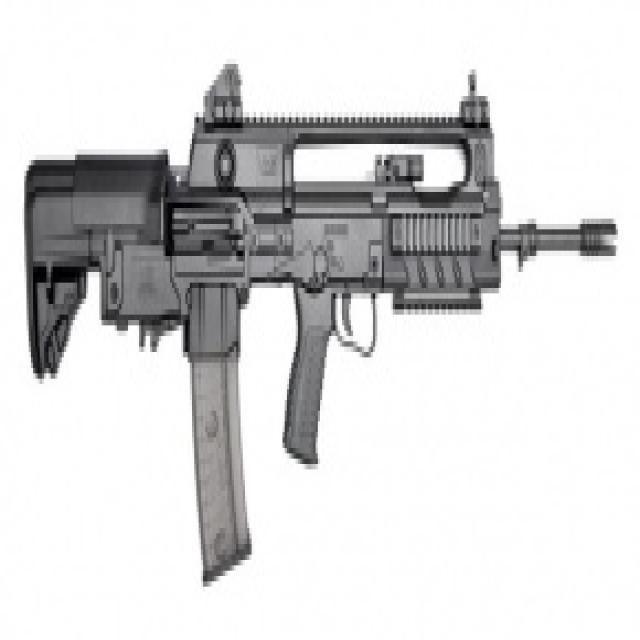rifle: (18, 45, 621, 601)
